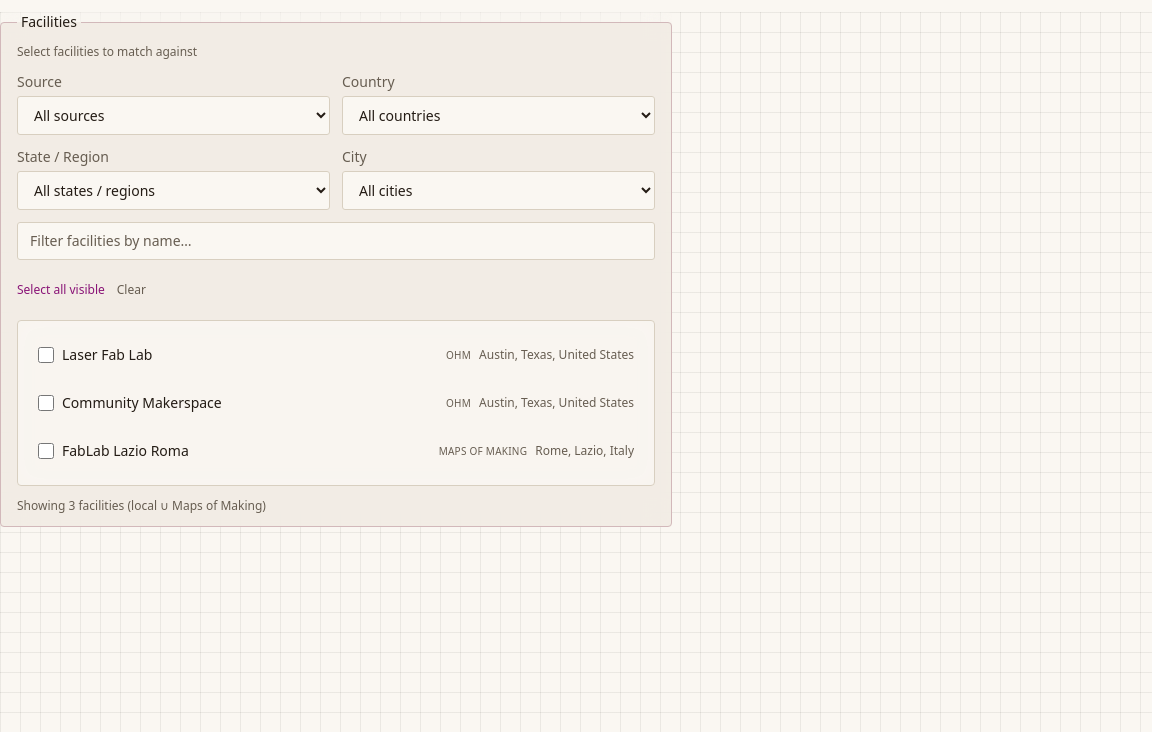
Test: FacilityFilter › narrows to Maps of Making via Source and clears conflicting geo filters
The image size is (1152, 732).
Select "Austin" in the dropdown labelled "City" at (498, 190), box x1=342 y1=171 x2=655 y2=210
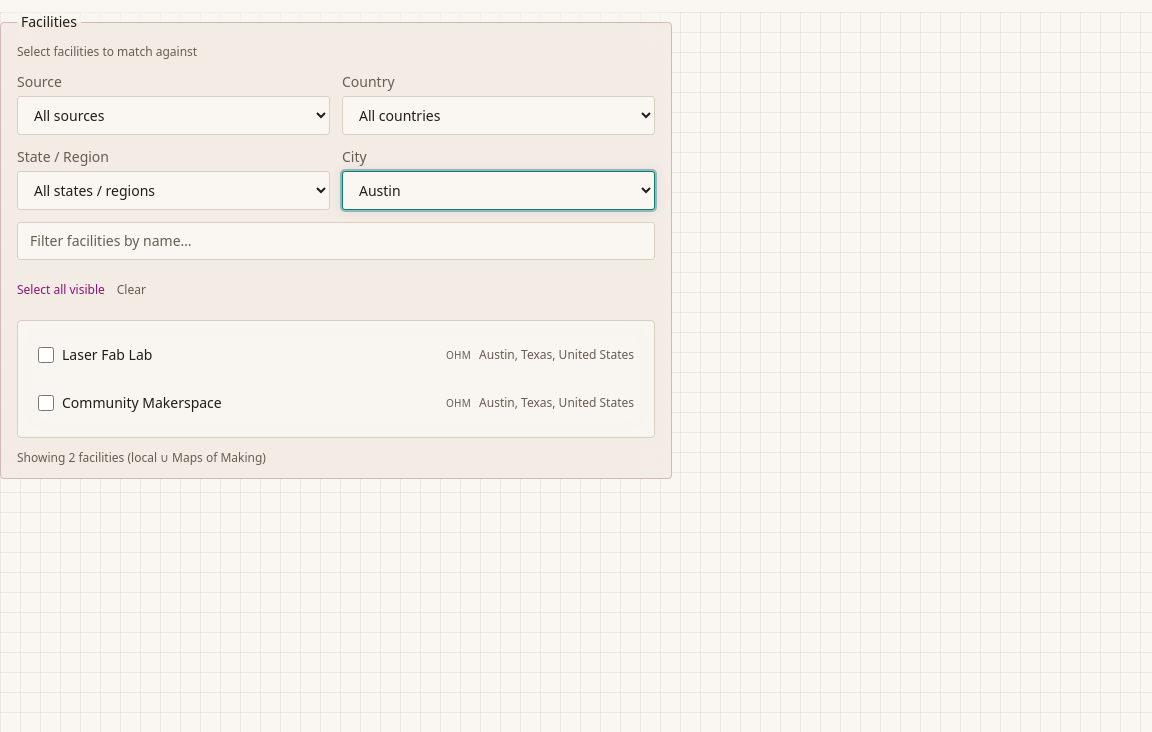
Expected: the text labelled "FabLab Lazio Roma" is gone
Select "Maps of Making" in the dropdown labelled "Source" at (174, 116), box x1=17 y1=96 x2=330 y2=135
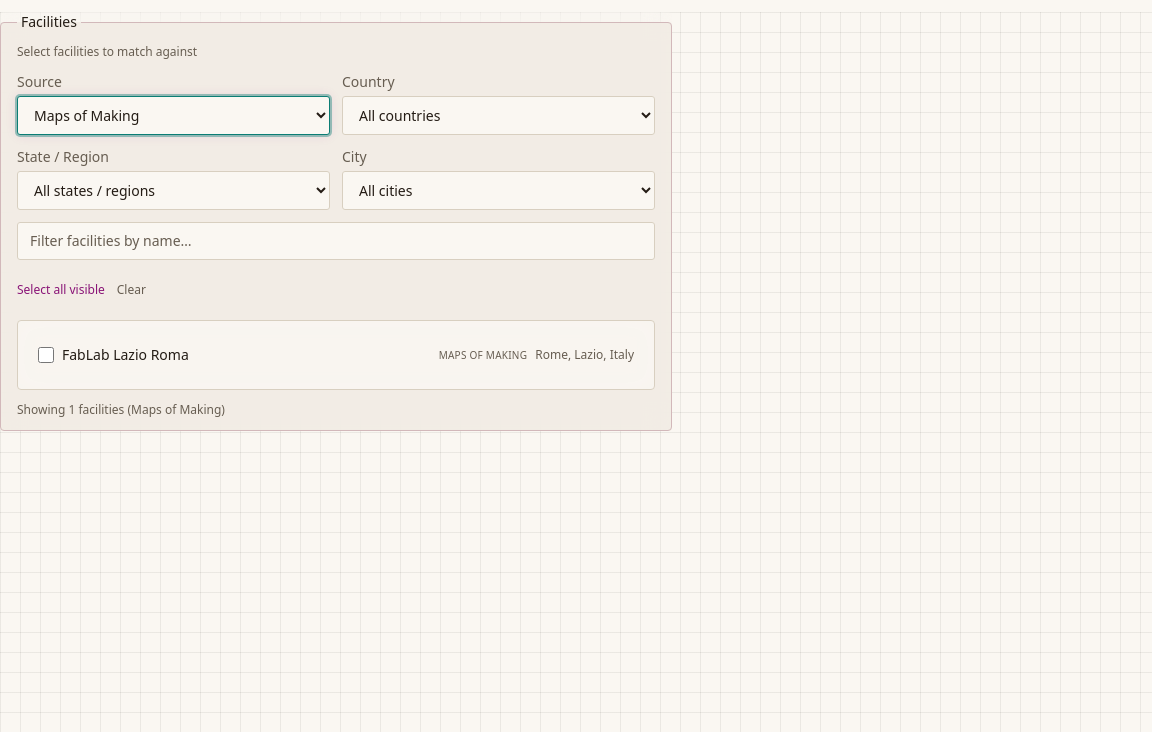
Expected: the checkbox labelled "FabLab Lazio Roma Maps of Making Rome, Lazio, Italy" is shown, x1=38 y1=347 x2=54 y2=363
Expected: the text labelled "Laser Fab Lab" is gone
